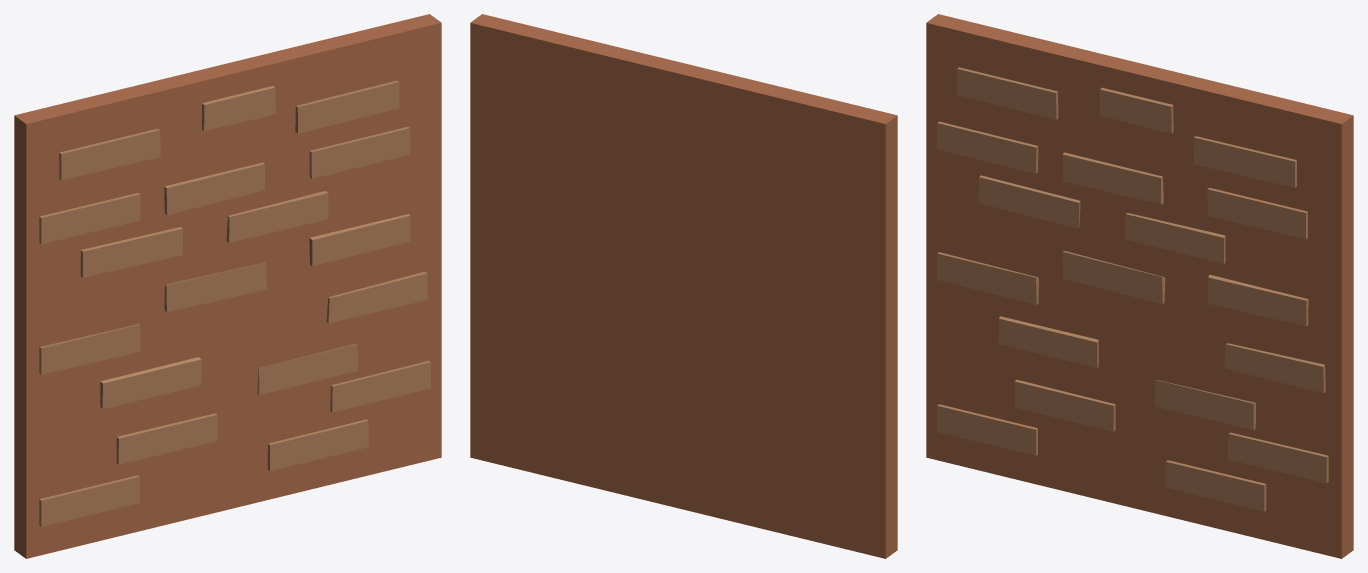
The model's file is BrickV3.fbx.
The picture shows the model from 3 angles, left to right: view 1: azimuth 30°, elevation 25°; view 2: azimuth 150°, elevation 25°; view 3: azimuth 330°, elevation 25°; orthographic projection.
Parts seen in each view (by area): view 1: BrickV3; view 2: BrickV3; view 3: BrickV3.
Part boxes in pixels (x1,y1,x2,y2): BrickV3: (14, 14, 441, 558); BrickV3: (470, 14, 897, 558); BrickV3: (926, 14, 1353, 558).
Size of the model in its own units: 200 by 200 by 11.75.
